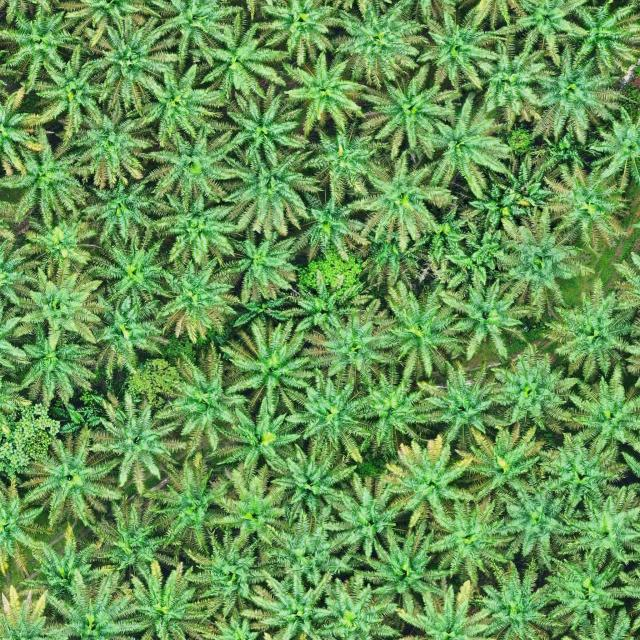Tree: (491, 202, 597, 321), (156, 336, 253, 456), (345, 147, 457, 250), (17, 422, 125, 527), (354, 61, 461, 164), (82, 388, 178, 499), (529, 39, 627, 145), (414, 94, 513, 198), (405, 1, 513, 94), (280, 363, 378, 465), (85, 9, 181, 111), (380, 436, 476, 536), (180, 522, 282, 616), (427, 486, 521, 588), (545, 274, 637, 378), (219, 143, 323, 235), (219, 147, 325, 237), (360, 519, 456, 617), (376, 278, 470, 378), (221, 320, 316, 418), (149, 448, 237, 552), (275, 49, 367, 148), (203, 393, 303, 484), (10, 260, 106, 353), (18, 38, 112, 132), (320, 469, 415, 561), (490, 339, 582, 433), (450, 415, 548, 502), (334, 0, 429, 89), (204, 460, 295, 552), (198, 9, 290, 100), (540, 155, 631, 247), (19, 521, 115, 608), (88, 498, 185, 584), (413, 361, 507, 449), (435, 278, 531, 364), (534, 428, 630, 514), (1, 126, 87, 222), (475, 555, 571, 640), (259, 507, 359, 587), (300, 298, 402, 376), (111, 560, 209, 640), (148, 120, 242, 203), (541, 543, 629, 631), (222, 79, 312, 165), (70, 100, 157, 188), (150, 259, 238, 345), (137, 61, 226, 146), (18, 315, 101, 406), (354, 361, 430, 459), (270, 436, 360, 518), (499, 482, 586, 566), (238, 569, 339, 640), (476, 33, 552, 126), (156, 186, 240, 270), (94, 290, 171, 378), (1, 4, 80, 89), (564, 367, 640, 453), (245, 0, 345, 63), (564, 484, 640, 566), (556, 0, 640, 73), (217, 228, 301, 300), (295, 190, 374, 266), (17, 202, 98, 273), (88, 236, 172, 302), (79, 176, 155, 248), (318, 577, 403, 640), (303, 125, 376, 198), (589, 102, 640, 186), (354, 234, 434, 286), (410, 202, 478, 260), (466, 182, 528, 235), (499, 151, 555, 207), (443, 240, 497, 291)
